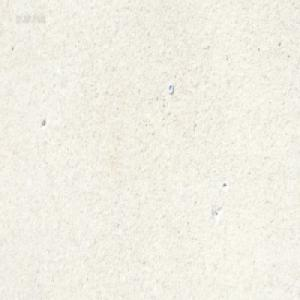Washer: (168, 84, 174, 95)
